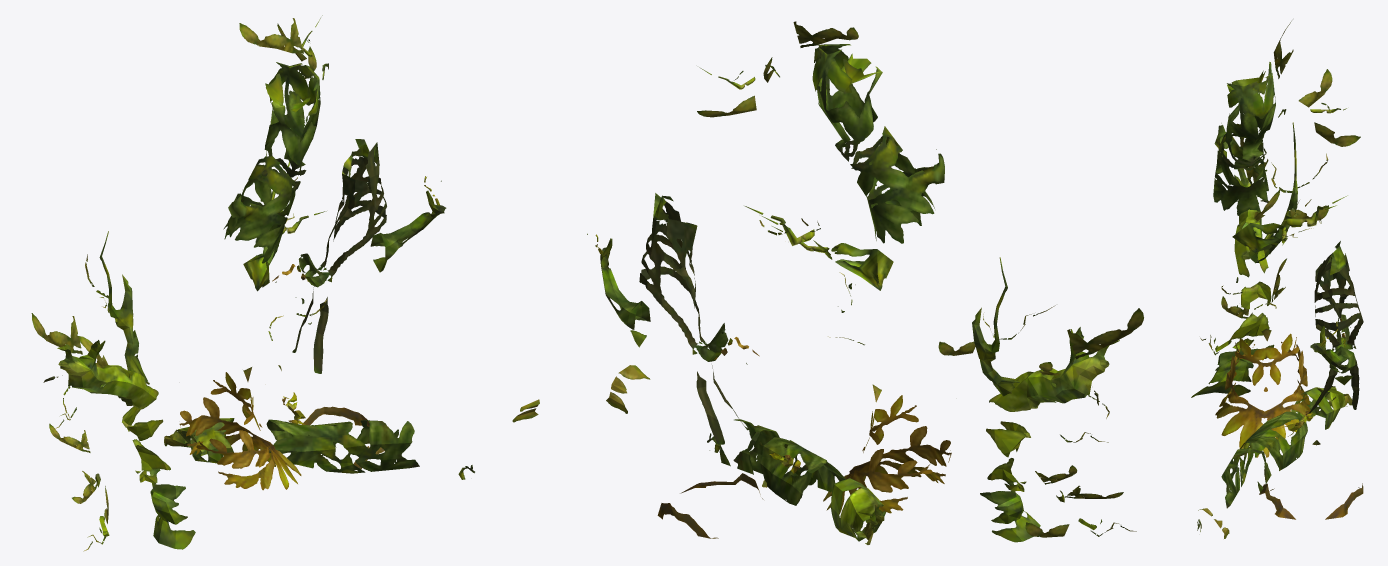
Rendered from Tree_2.FBX.
3 views of the same model, side by side, from view 1: azimuth 30°, elevation 25°; view 2: azimuth 150°, elevation 25°; view 3: azimuth 270°, elevation 25° (orthographic). The views are drawn at different scales.
Visible parts, largest first — view 1: Tree_2, Object003, Object002, Object001; view 2: Tree_2, Object003, Object001, Object002; view 3: Tree_2, Object003, Object001, Object002.
Boxes of the visible parts, x1,y1,x2,y2 form: Tree_2: (179,15,328,490); Object003: (31,231,195,551); Object002: (164,365,539,479); Object001: (272,139,446,469); Tree_2: (697,21,951,513); Object003: (938,257,1143,542); Object001: (587,193,766,538); Object002: (606,365,886,544); Tree_2: (1213,21,1360,457); Object003: (1191,122,1328,397); Object001: (1259,241,1363,519); Object002: (1197,386,1352,538).
Size of the model in its own units: 1900 by 1701 by 684.
